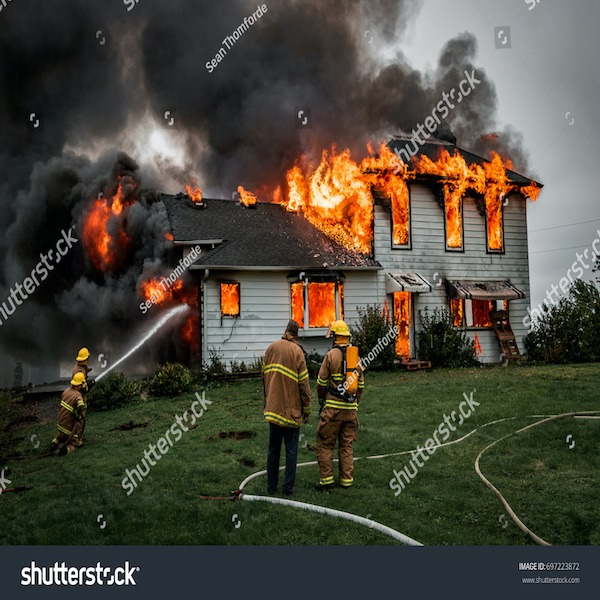fire: (283, 136, 373, 241), (71, 174, 148, 273), (476, 153, 509, 251), (439, 148, 471, 249), (393, 295, 414, 355), (310, 284, 333, 326), (221, 283, 240, 315), (290, 284, 303, 321)
helmet: (332, 322, 352, 339), (74, 345, 91, 361), (70, 373, 86, 387)
vest: (263, 348, 309, 427), (62, 390, 81, 441)
